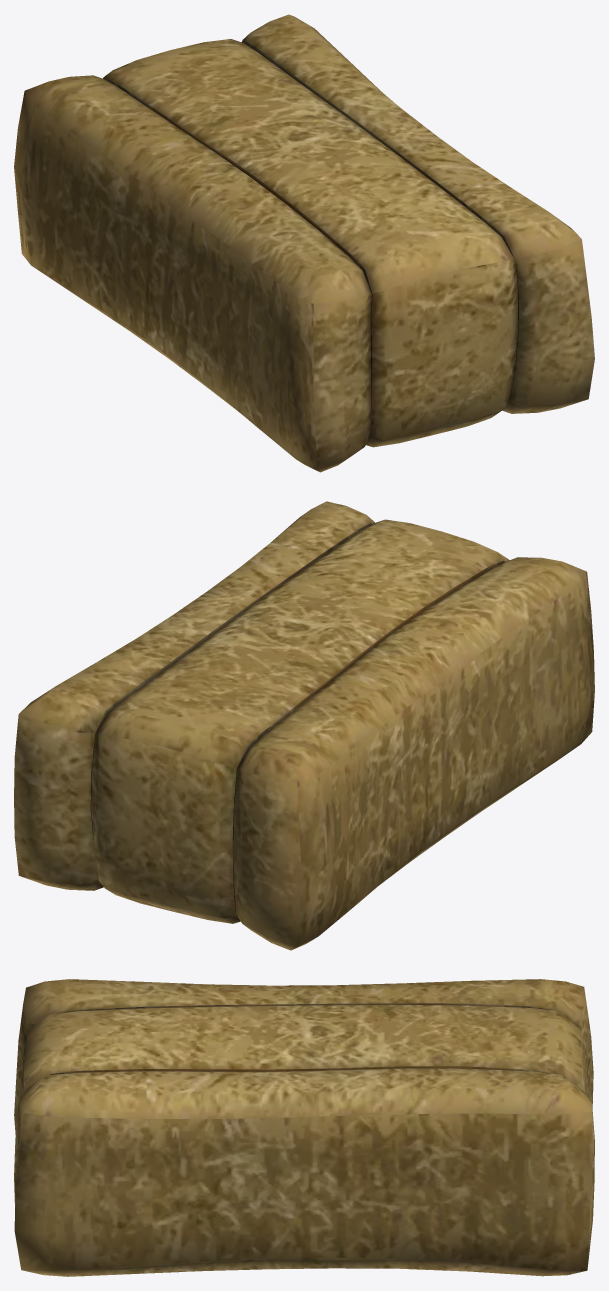
3 renders of one model, top to bottom at view 1: azimuth 30°, elevation 25°; view 2: azimuth 150°, elevation 25°; view 3: azimuth 270°, elevation 25°, orthographic. The views are drawn at different scales.
Parts seen in each view (by area): view 1: body0_model0_lod0_mesh0; view 2: body0_model0_lod0_mesh0; view 3: body0_model0_lod0_mesh0.
Part boxes in pixels (bbox=[...]): body0_model0_lod0_mesh0: bbox=[14, 14, 594, 472]; body0_model0_lod0_mesh0: bbox=[14, 501, 594, 950]; body0_model0_lod0_mesh0: bbox=[14, 979, 594, 1276].
Size of the model in its own units: 38.76 by 25.88 by 68.21.
1 material, 1 textured.
